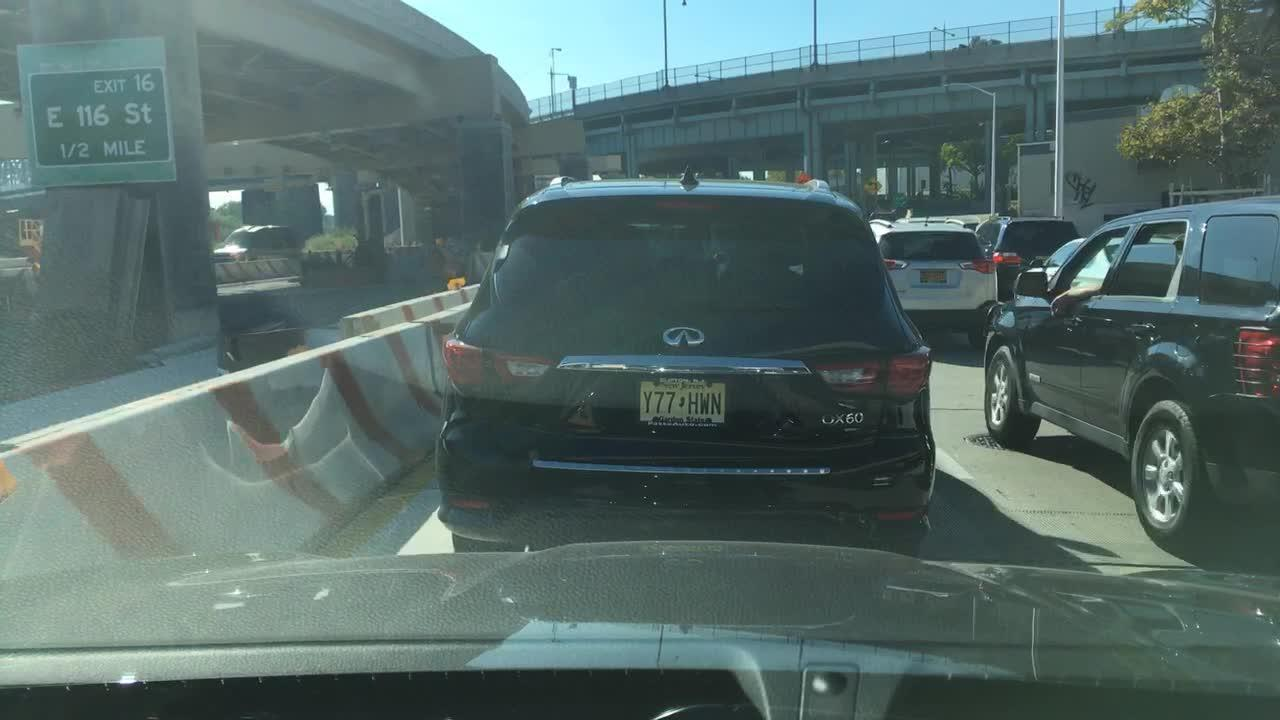Infiniti: (657, 319, 725, 356)
